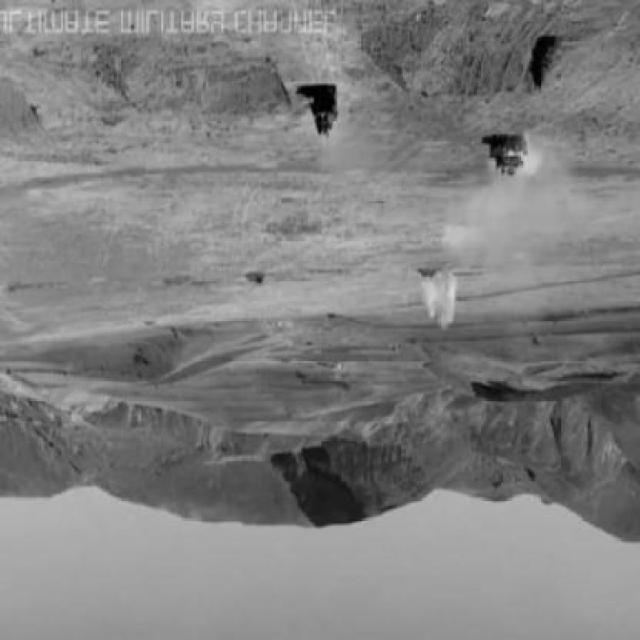Vehicle: (308, 87, 340, 143), (490, 134, 529, 179)
